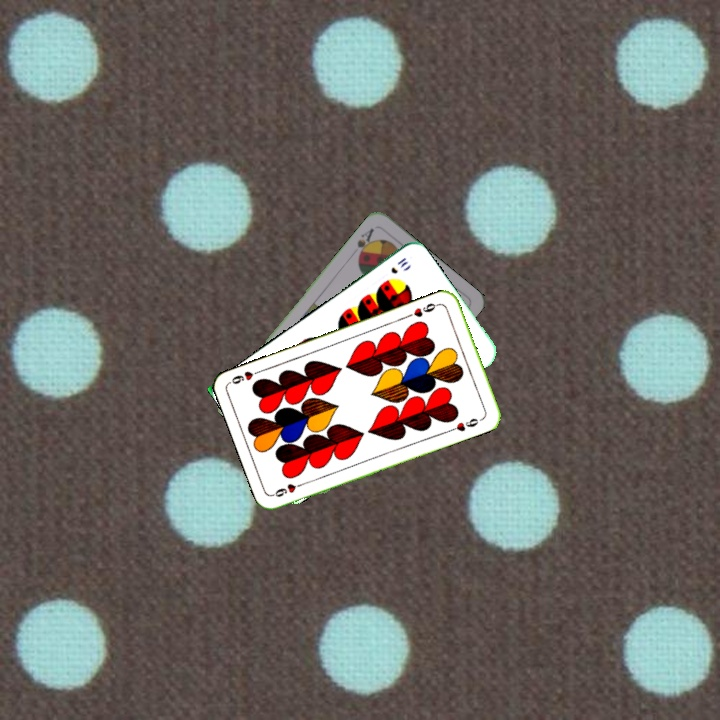H9: (269, 478, 308, 500), (404, 299, 443, 320)
S10: (387, 253, 411, 276)
SA: (353, 224, 377, 262)
